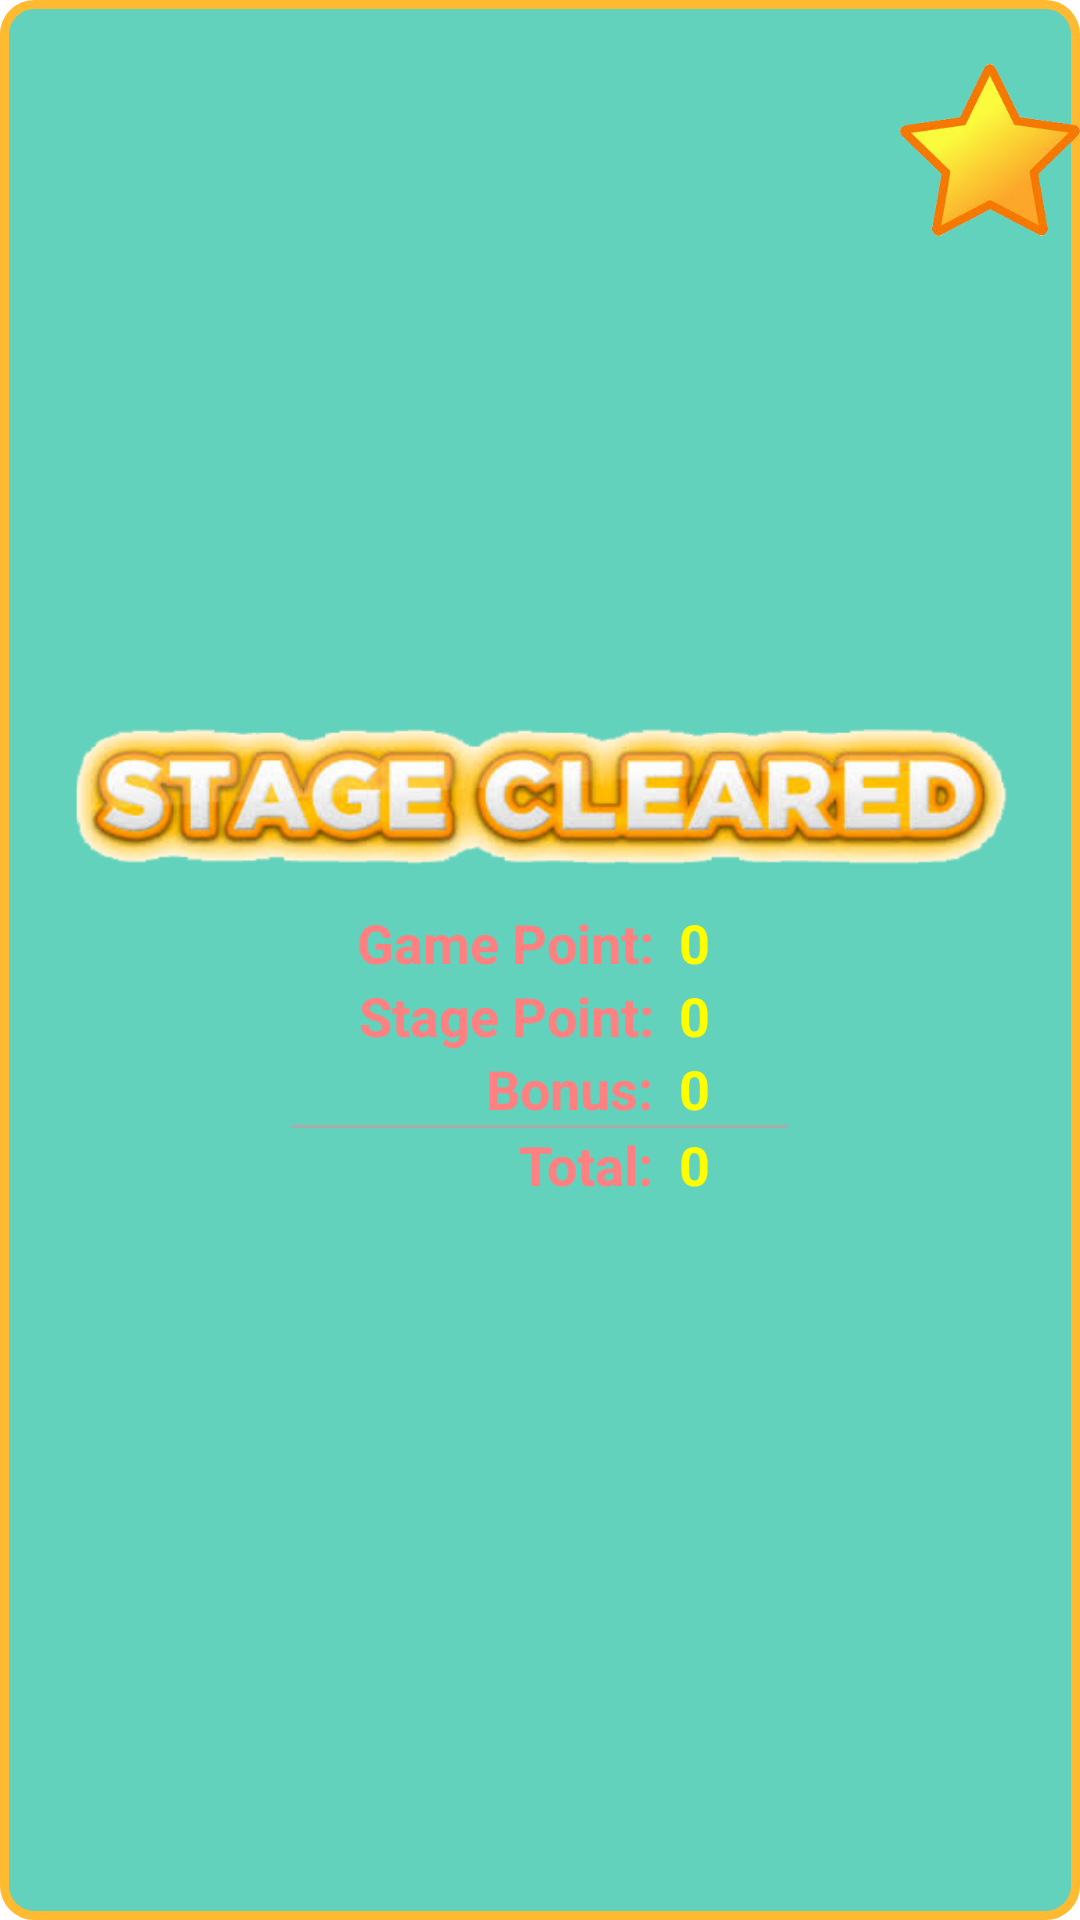

Icons on this 1080x1920 Android screen, each with its box as [x1=x1, y1=y1, x2=x2, y2=y2]:
star: [x1=900, y1=60, x2=1080, y2=240]
